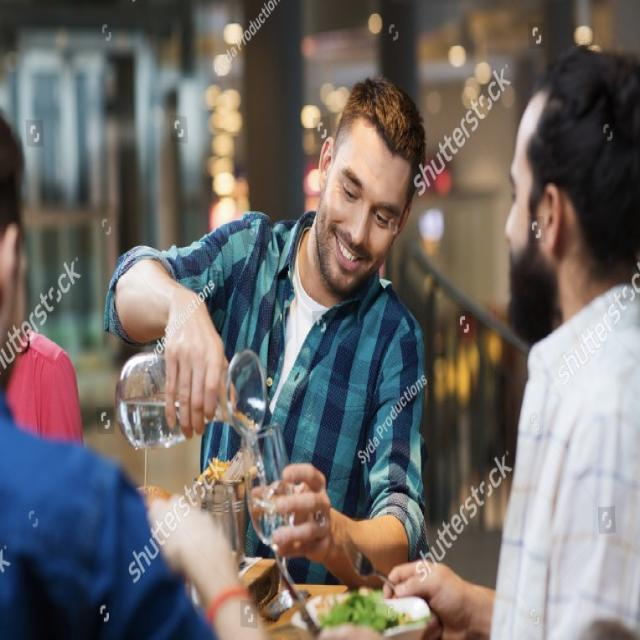eating-person: (105, 73, 440, 640)
